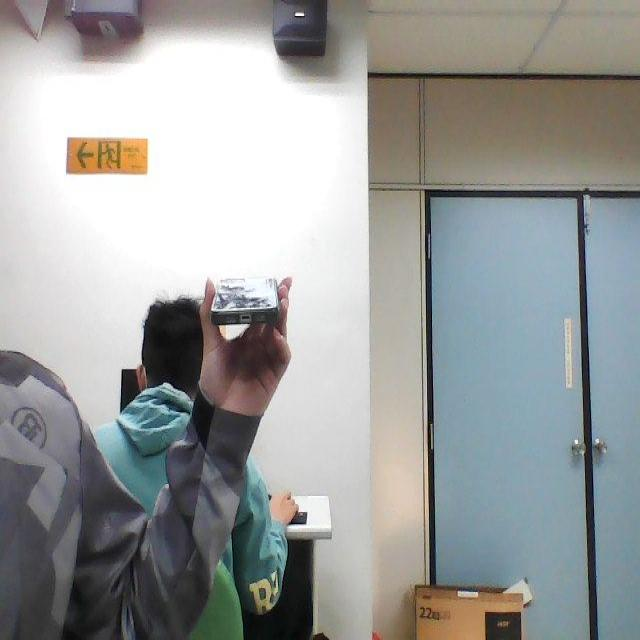Smartphone: (204, 256, 284, 336)
